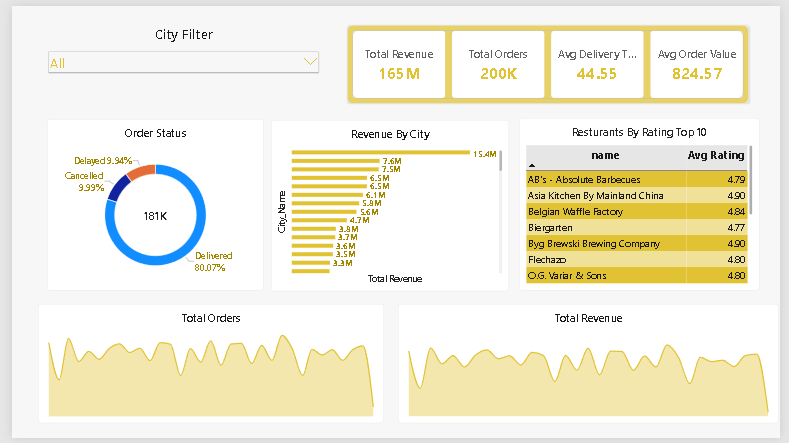

This screenshot's page, from the dashboard's own definition file:
{"tool":"powerbi","page":{"name":"Executive View ","canvas":[1920,1080],"ordinal":0},"visuals":[{"type":"cardVisual","fields":{"Data":["Orders.Total Revenue","Orders.Total Orders","Orders.Avg Delivery Time","Orders.Avg Order Value"]},"box":[838,46.8,1005.6,197.2],"z":0},{"type":"lineChart","title":"Total Revenue","fields":{"Category":["DateTable.Date.Variation.Date Hierarchy.Year","DateTable.Date.Variation.Date Hierarchy.Month"],"Y":["Orders.Total Revenue"]},"box":[965.4,745,952.2,297.6],"z":1000},{"type":"lineChart","title":"Total Orders","fields":{"Category":["DateTable.Date.Variation.Date Hierarchy.Year","DateTable.Date.Variation.Date Hierarchy.Month"],"Y":["Orders.Total Orders"]},"box":[64.1,744.3,865.1,298.2],"z":2000},{"type":"barChart","title":"Revenue By City","fields":{"Category":["Customers.City_Name"],"Y":["Orders.Total Revenue"]},"box":[663.7,287.1,595.1,427.6],"z":3000},{"type":"donutChart","title":"Order Status","fields":{"Category":["Orders.OrderStatus"],"Y":["Orders.Total Orders"]},"box":[86.3,283.4,542.2,428.9],"z":4000},{"type":"tableEx","title":"Resturants By Rating Top 10","fields":{"Values":["Restaurants.name","Restaurants.Avg Rating"]},"box":[1266.9,281,601.4,431.3],"z":5000},{"type":"slicer","title":" City Filter","fields":{"Values":["Customers.City_Name"]},"box":[86,46.3,688.2,216.8],"z":6000}]}

Visuals, with their boxes in screenshot pixels (x1, y1, x2, y2), scaled from the page's 1920x1080 canvas onto the 789x443 screenshot:
cardVisual - Orders.Total Revenue x Orders.Total Orders: {"x1": 344, "y1": 19, "x2": 758, "y2": 100}
"Total Revenue" lineChart: {"x1": 397, "y1": 306, "x2": 788, "y2": 428}
"Total Orders" lineChart: {"x1": 26, "y1": 305, "x2": 382, "y2": 428}
"Revenue By City" barChart: {"x1": 273, "y1": 118, "x2": 517, "y2": 293}
"Order Status" donutChart: {"x1": 35, "y1": 116, "x2": 258, "y2": 292}
"Resturants By Rating Top 10" tableEx: {"x1": 521, "y1": 115, "x2": 768, "y2": 292}
" City Filter" slicer: {"x1": 35, "y1": 19, "x2": 318, "y2": 108}
